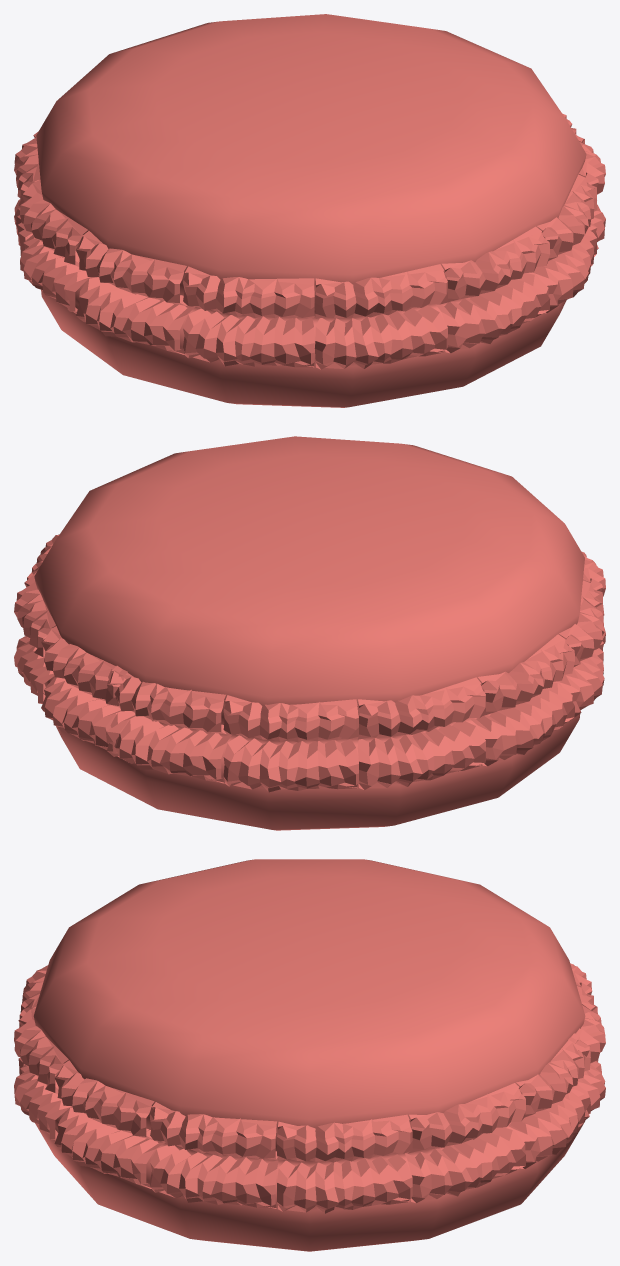
File: makaron.fbx
3 renders of one model, top to bottom at view 1: azimuth 30°, elevation 25°; view 2: azimuth 150°, elevation 25°; view 3: azimuth 270°, elevation 25°, orthographic.
Parts seen in each view (by area): view 1: pSphere31; view 2: pSphere31; view 3: pSphere31.
Part boxes in pixels (left/top/right/bottom): pSphere31: left=14, top=14, right=605, bottom=407; pSphere31: left=14, top=436, right=605, bottom=830; pSphere31: left=14, top=859, right=605, bottom=1251.
Size of the model in its own units: 12.73 by 5.56 by 12.75.
